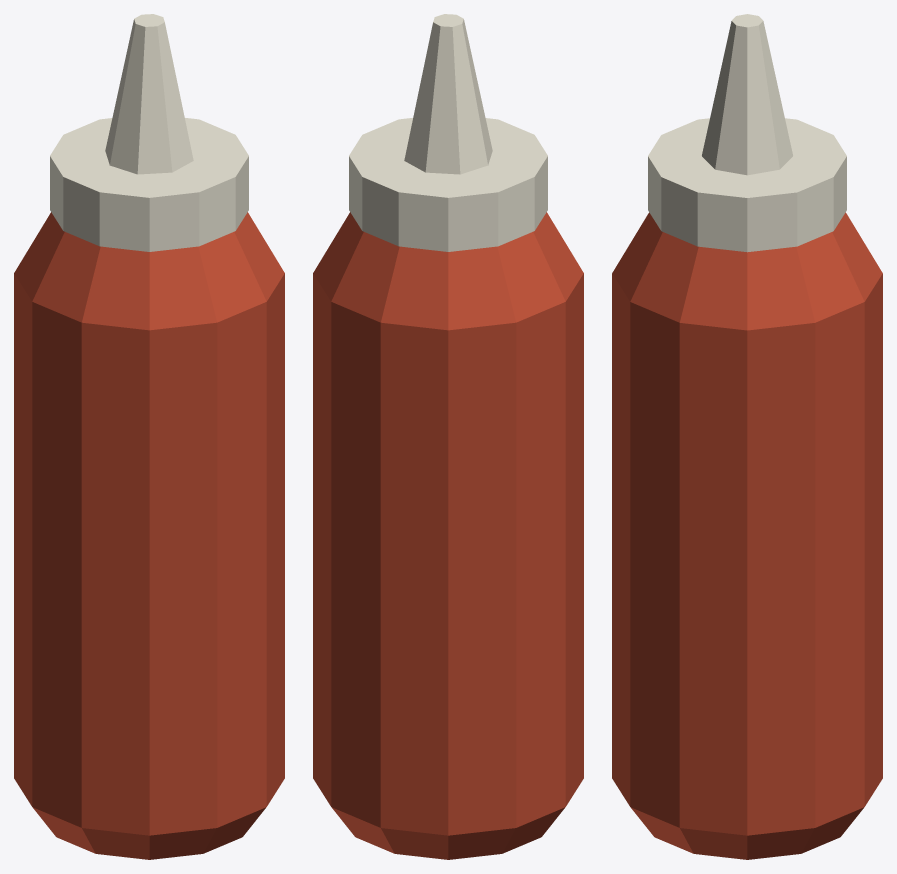
File: Sauce_Ketchup.glb
The picture shows the model from 3 angles, left to right: view 1: azimuth 30°, elevation 25°; view 2: azimuth 150°, elevation 25°; view 3: azimuth 270°, elevation 25°; orthographic projection.
Parts seen in each view (by area): view 1: Sauce_Ketchup; view 2: Sauce_Ketchup; view 3: Sauce_Ketchup.
Part boxes in pixels (x1,y1,x2,y2): Sauce_Ketchup: [14, 14, 284, 859]; Sauce_Ketchup: [313, 14, 583, 859]; Sauce_Ketchup: [612, 14, 882, 859].
Size of the model in its own units: 0.068 by 0.22 by 0.068.
